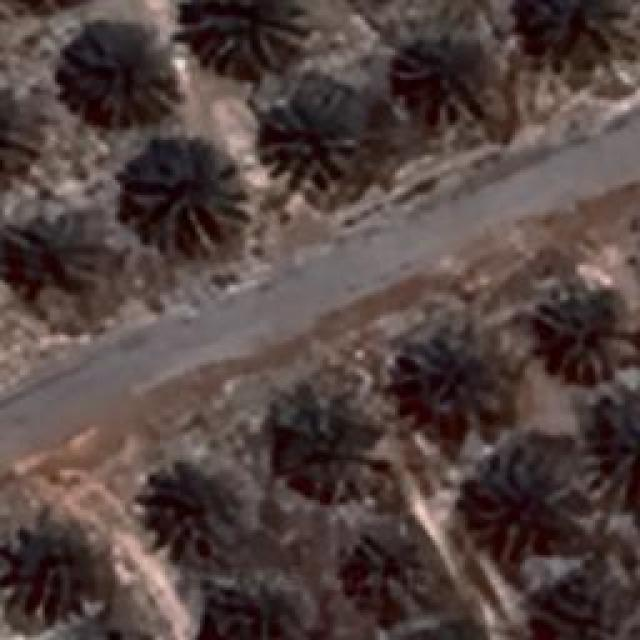PalmTree: (120, 140, 245, 250), (468, 435, 592, 545), (384, 326, 508, 424), (60, 25, 178, 125), (142, 445, 245, 543), (276, 402, 374, 498), (8, 511, 104, 609), (180, 0, 305, 72), (260, 95, 355, 183), (9, 218, 99, 308), (198, 570, 312, 640), (338, 526, 428, 604), (540, 567, 635, 640), (537, 284, 625, 362), (404, 38, 486, 116), (522, 0, 635, 52), (0, 84, 48, 202), (605, 394, 640, 508)
